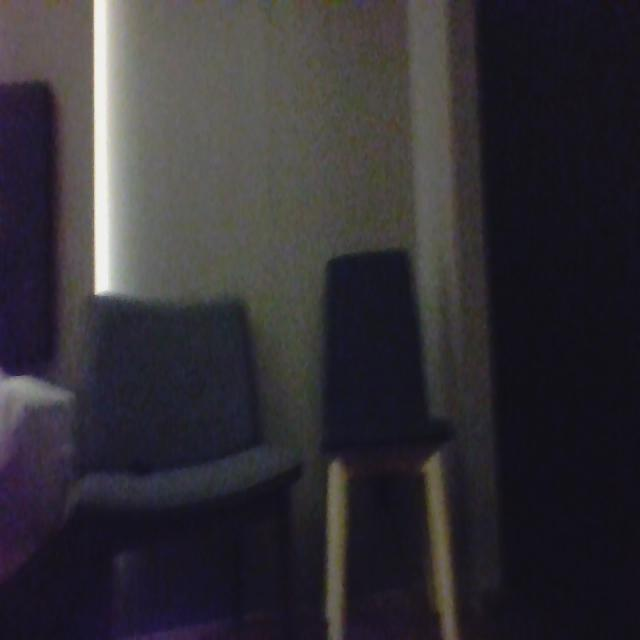empty: (79, 282, 263, 498), (314, 251, 436, 470)
